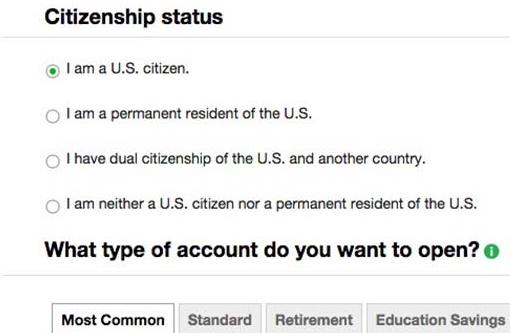radio: (44, 106, 65, 129), (44, 58, 62, 83), (46, 151, 66, 173), (45, 198, 66, 217)
radio_with_label: (38, 193, 476, 222), (42, 147, 420, 179), (39, 101, 314, 131), (38, 53, 191, 85)
